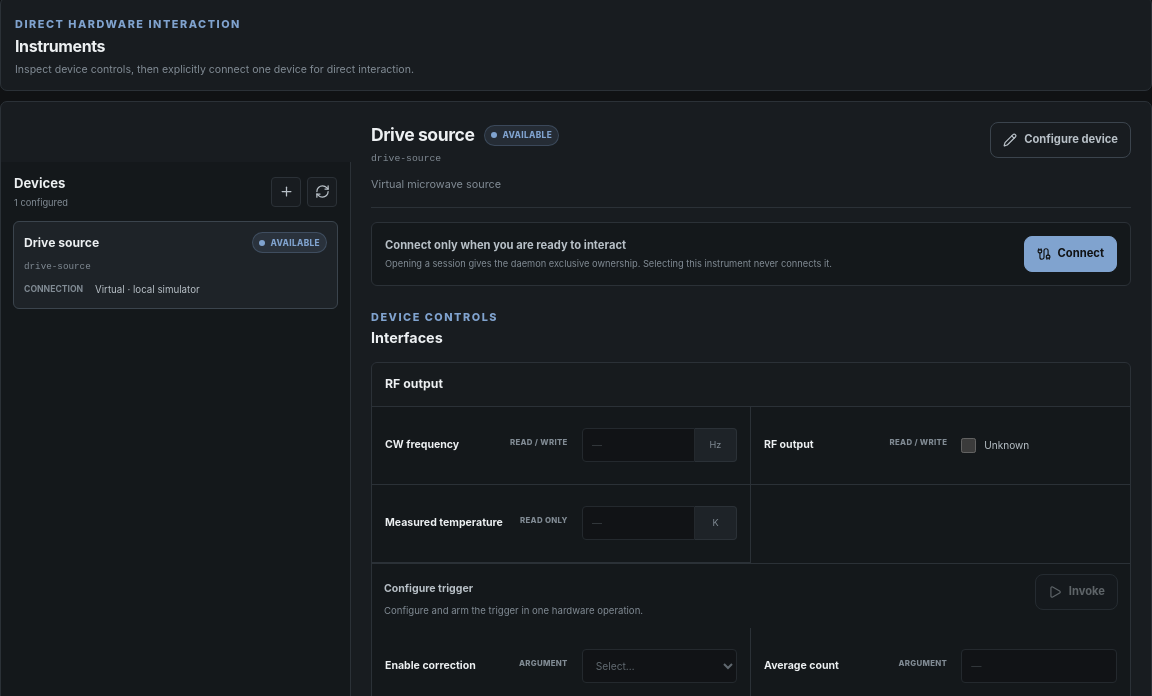
Test: instrument workspace › clears stale operation results after applying configured defaults
The image size is (1152, 696).
Click the button "Connect".
click(1070, 254)  # box [1024,236,1117,272]
(page scrolled)
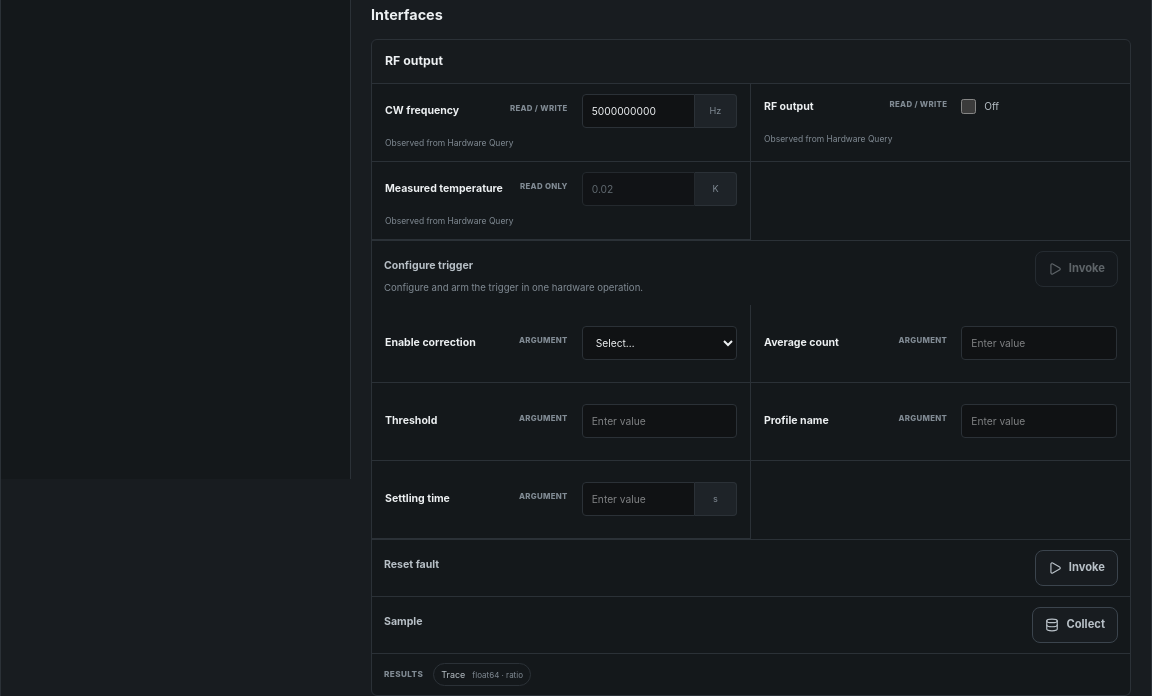
Click the button with aria-label "Invoke Reset fault".
click(1076, 568)  # box [1035,550,1118,586]
(page scrolled)
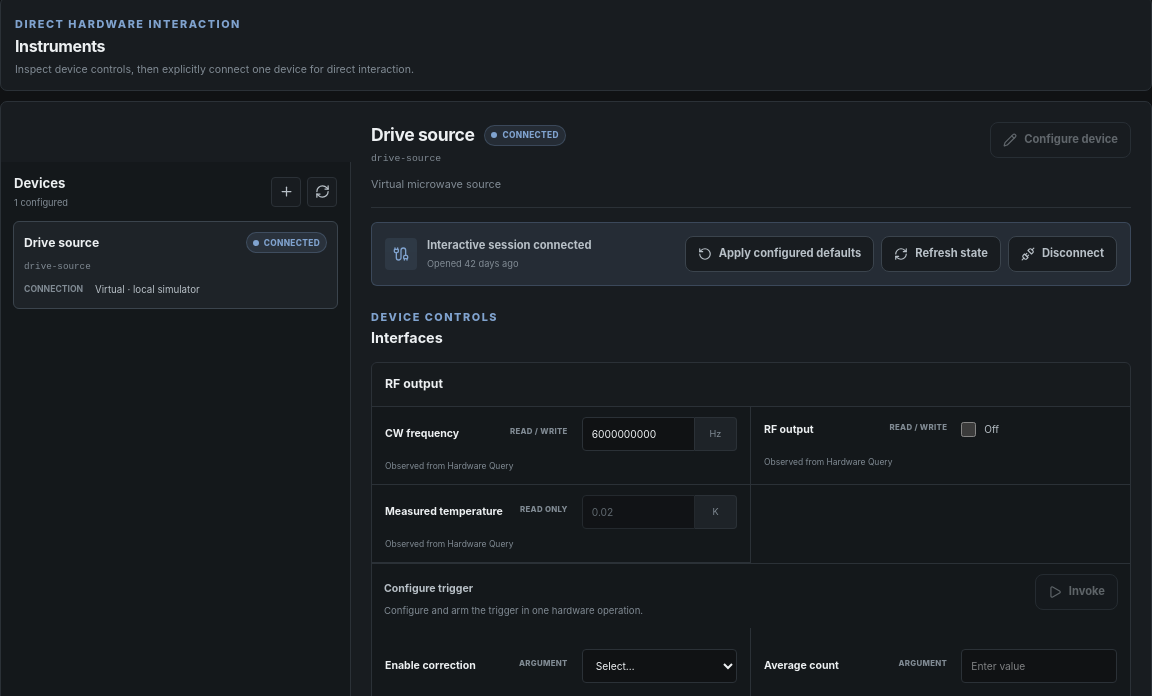
Click the button "Apply configured defaults".
click(779, 254)  # box [685,236,874,272]
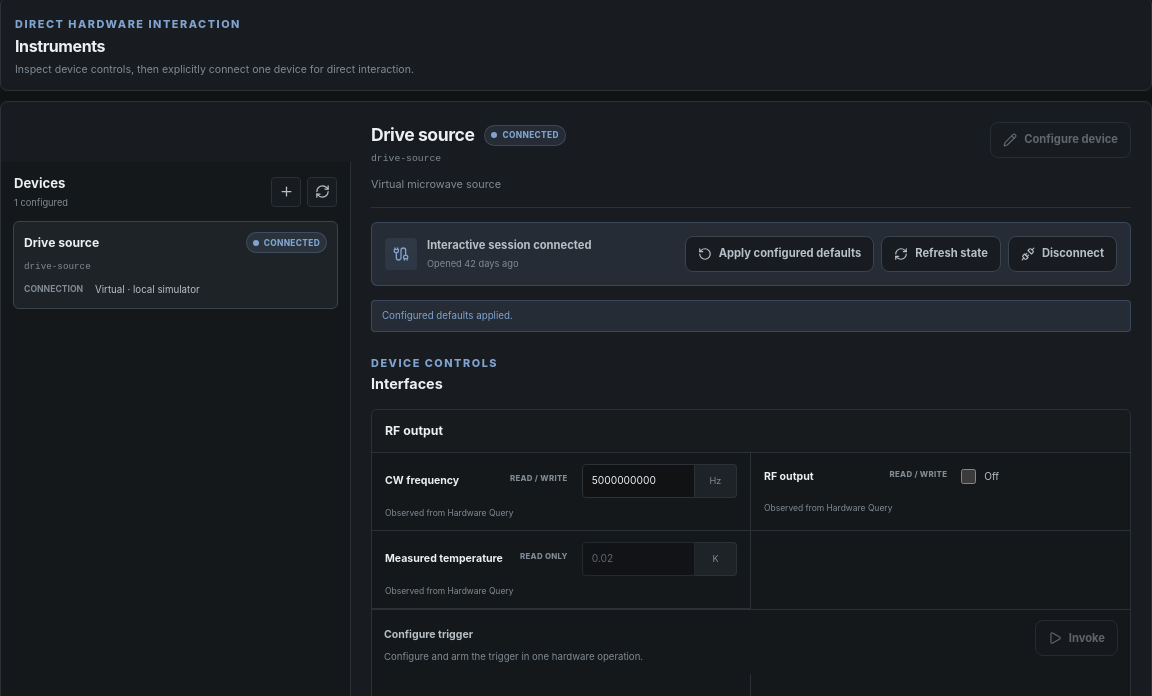
expect the text "Configured defaults applied." is shown: met, box [371,300,1131,332]
